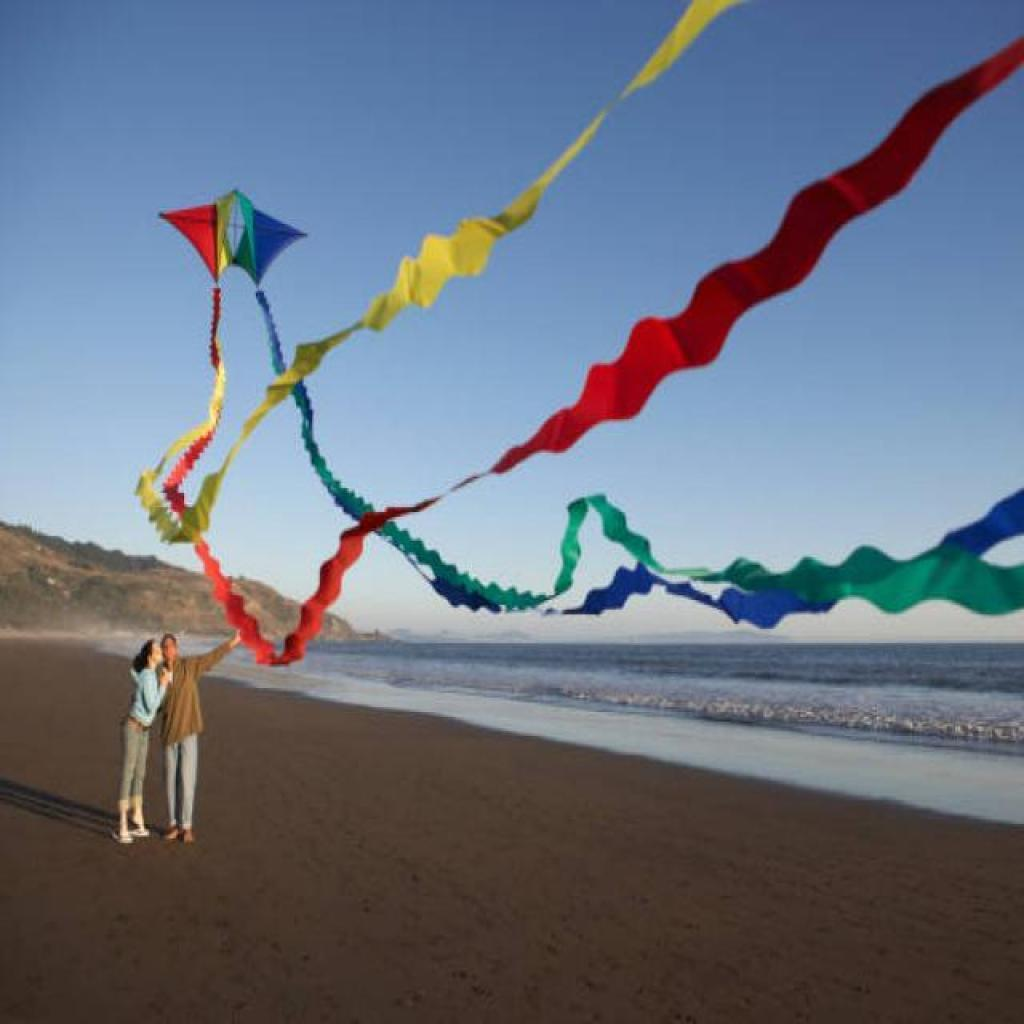kite: (134, 3, 1024, 675)
